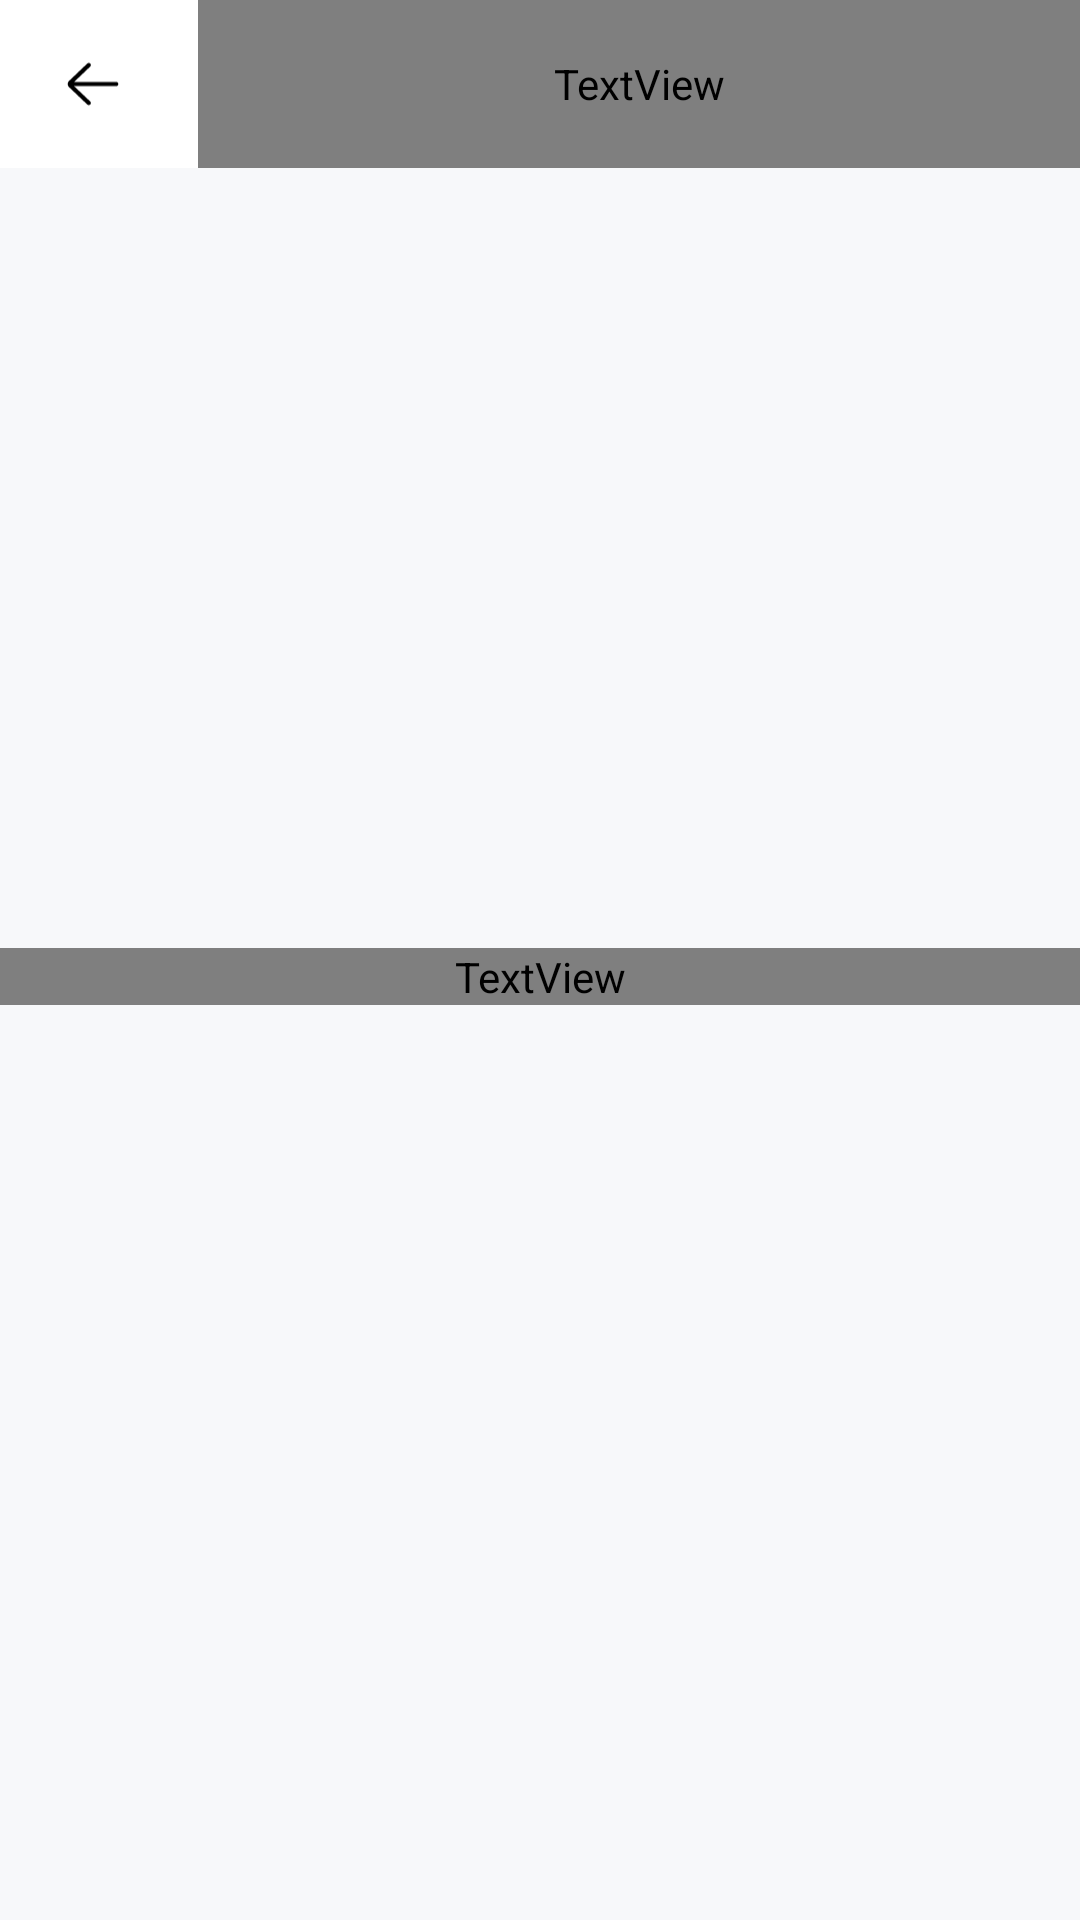

Named icons in this screenshot (1080px×1920px) and their bounding boxes, (x1, y1, x2, y2):
back: (67, 62, 119, 106)
